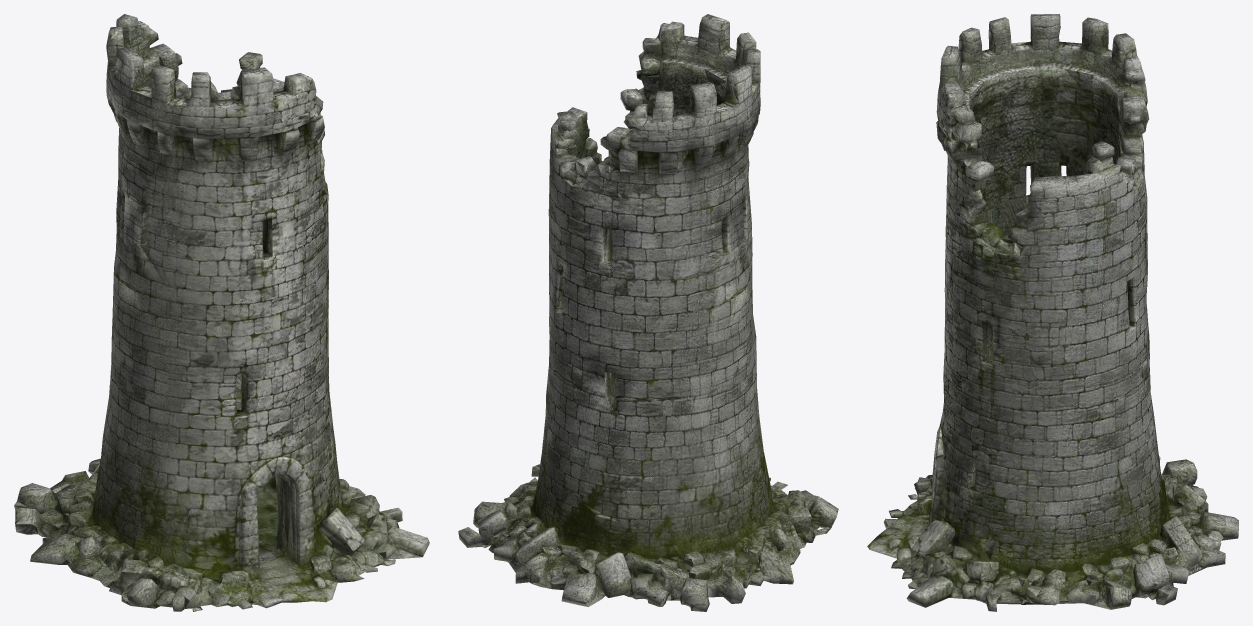
Rendered from 2dc211ea-0f2c-4f11-a403-585899dcf963.glb.
3 renders of one model, left to right at view 1: azimuth 30°, elevation 25°; view 2: azimuth 150°, elevation 25°; view 3: azimuth 270°, elevation 25°, orthographic. The views are drawn at different scales.
Visible parts, largest first — view 1: Mesh_0.001; view 2: Mesh_0.001; view 3: Mesh_0.001.
Part boxes in pixels (left/top/right/bottom): Mesh_0.001: left=14, top=14, right=429, bottom=611; Mesh_0.001: left=458, top=14, right=838, bottom=611; Mesh_0.001: left=867, top=14, right=1238, bottom=611.
Size of the model in its own units: 10.04 by 15 by 10.46.
Materials: 1 (1 with a texture image).
